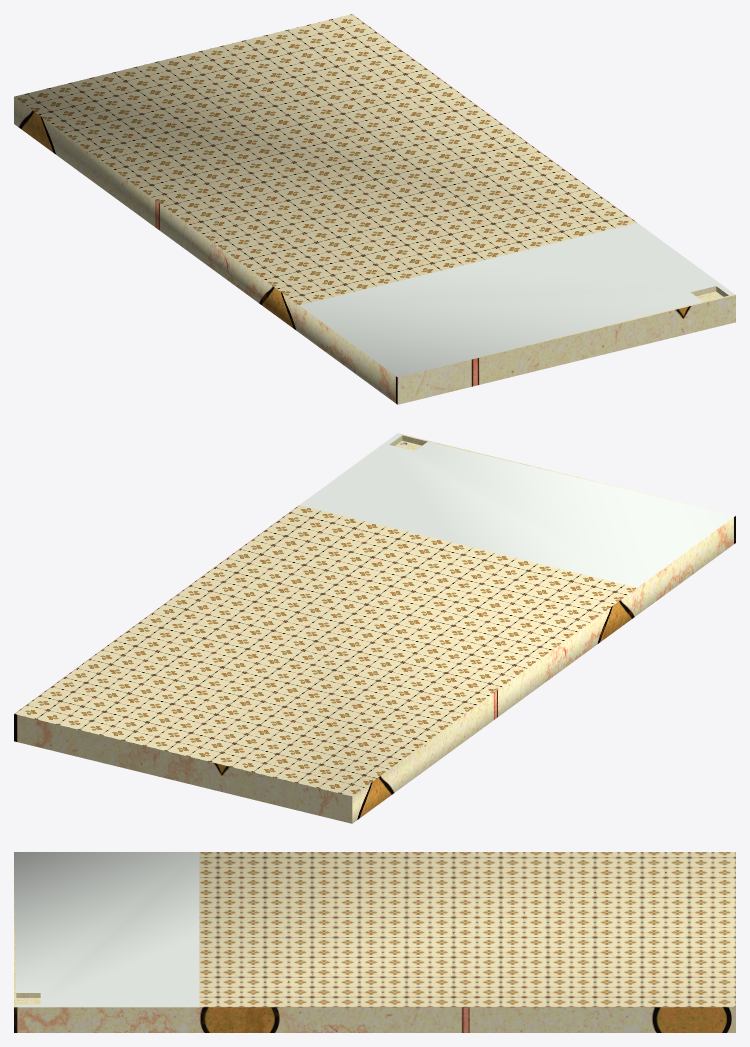
Rendered from Floor.fbx.
The picture shows the model from 3 angles, top to bottom: view 1: azimuth 30°, elevation 25°; view 2: azimuth 150°, elevation 25°; view 3: azimuth 270°, elevation 25°; orthographic projection. The views are drawn at different scales.
Visible parts, largest first — view 1: Floor, FloorKitchen; view 2: Floor, FloorKitchen; view 3: Floor, FloorKitchen.
Boxes of the visible parts, x1,y1,x2,y2 form: Floor: [14, 14, 735, 404]; FloorKitchen: [299, 223, 735, 377]; Floor: [14, 433, 735, 823]; FloorKitchen: [299, 433, 735, 587]; Floor: [14, 852, 735, 1032]; FloorKitchen: [14, 852, 199, 1007].
Bounding box in the file's own units: 7657 × 591 × 15045.
